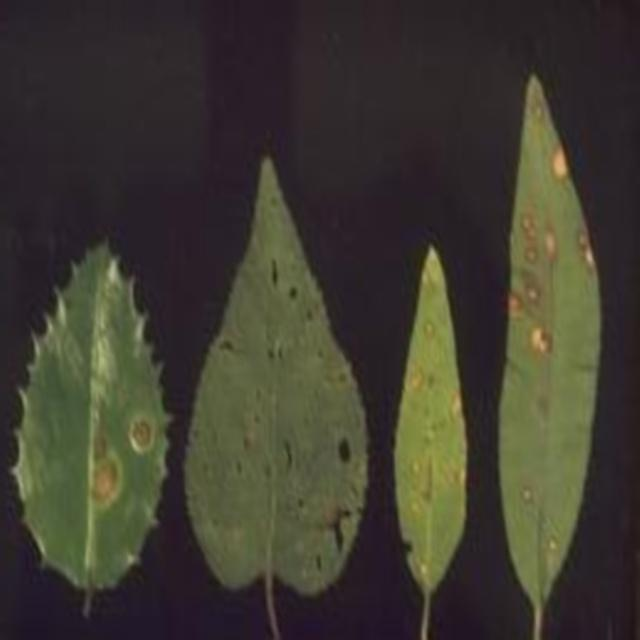leaf_spot: (478, 58, 612, 600), (362, 99, 496, 640), (25, 99, 159, 640)
shot_hole: (192, 99, 359, 640)
